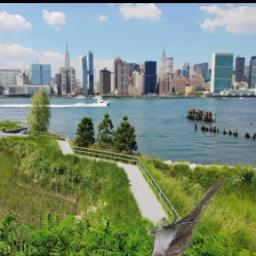Cuckoo: (145, 178, 225, 256)
